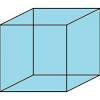cubos: (1, 0, 100, 95)
